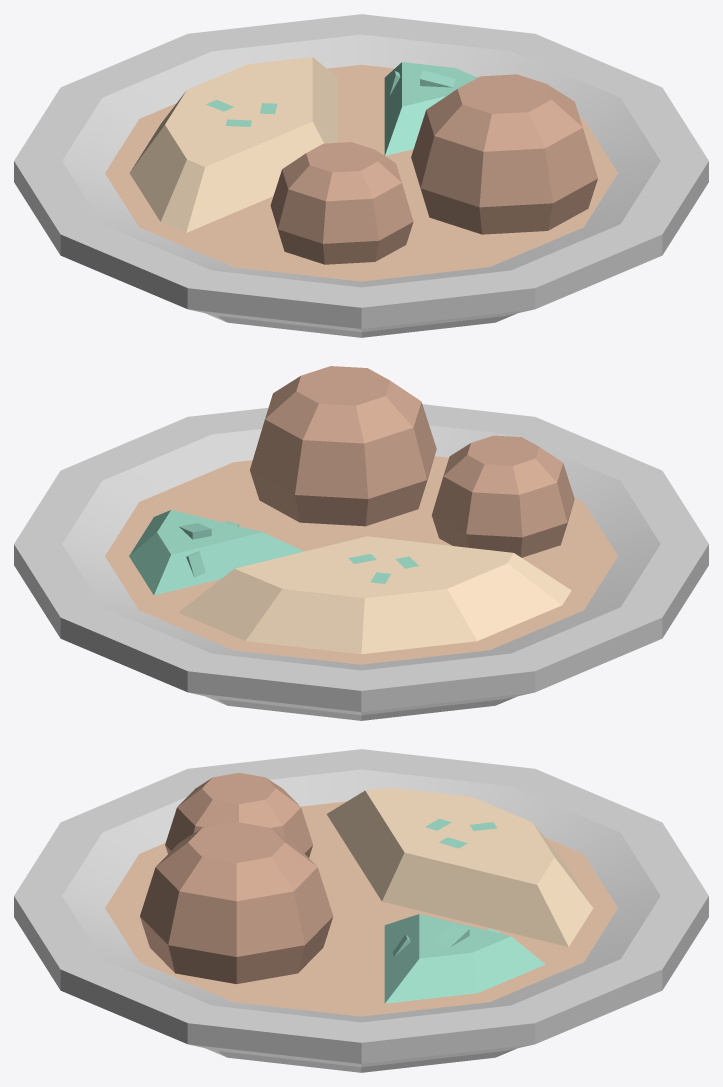
The model's file is plateDinner.glb.
3 renders of one model, top to bottom at view 1: azimuth 30°, elevation 25°; view 2: azimuth 150°, elevation 25°; view 3: azimuth 270°, elevation 25°, orthographic.
Visible parts, largest first — view 1: plateDinner; view 2: plateDinner; view 3: plateDinner.
Part boxes in pixels (x1,y1,x2,y2): plateDinner: (14, 14, 708, 337); plateDinner: (14, 366, 708, 720); plateDinner: (14, 749, 708, 1072).
Size of the model in its own units: 0.8918 by 0.2214 by 0.8918.
